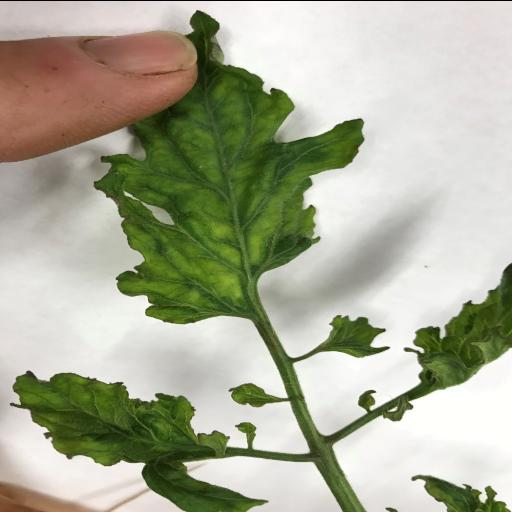disease_tomato: (90, 7, 366, 325), (9, 368, 224, 466)
